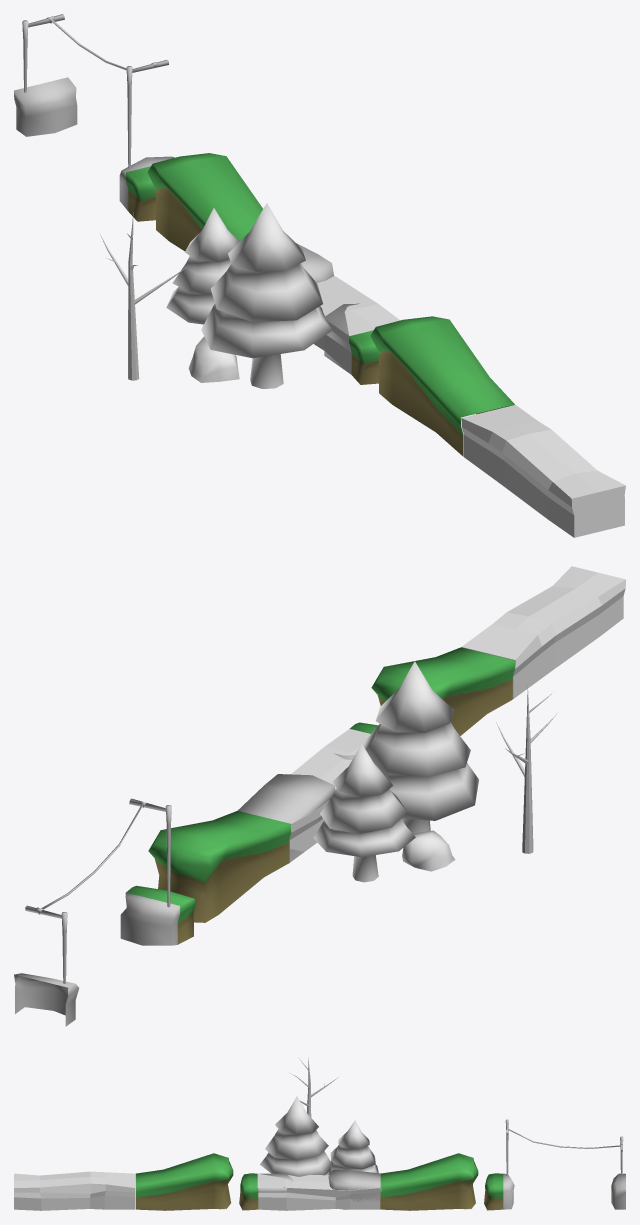
File: ExportedBlenderFBXFile.fbx
3 renders of one model, top to bottom at view 1: azimuth 30°, elevation 25°; view 2: azimuth 150°, elevation 25°; view 3: azimuth 270°, elevation 25°, orthographic. The views are drawn at different scales.
Visible parts, largest first — view 1: Circle, Cube_005, Cube, Cube_003, Cube_004, Circle_001, Cube_002, Cube_006, Circle_002, Cube_001; view 2: Circle, Cube_003, Cube, Circle_001, Cube_004, Cube_005, Cube_001, Cube_002, Cube_006, Circle_002; view 3: Cube_003, Cube_005, Cube, Circle, Cube_002, Circle_001, Cube_001, Cube_004, Circle_002.
Boxes of the visible parts, box(x1,y1,x2,y2) form: Circle: box(201, 203, 332, 388); Cube_005: box(349, 316, 514, 456); Cube: box(461, 405, 625, 537); Cube_003: box(126, 153, 262, 251); Cube_004: box(14, 14, 174, 210); Circle_001: box(166, 208, 239, 324); Cube_002: box(314, 275, 399, 374); Cube_006: box(188, 336, 239, 382); Circle_002: box(99, 212, 187, 380); Cube_001: box(296, 243, 359, 373); Circle: box(363, 661, 478, 833); Cube_003: box(126, 811, 291, 944); Cube: box(461, 566, 625, 698); Circle_001: box(313, 744, 415, 882); Cube_004: box(14, 798, 179, 1026); Cube_005: box(349, 647, 514, 735); Cube_001: box(237, 753, 354, 862); Cube_002: box(289, 729, 370, 851); Cube_006: box(402, 830, 455, 871); Circle_002: box(496, 684, 557, 853); Cube_003: box(380, 1153, 503, 1210); Cube_005: box(135, 1153, 258, 1210); Cube: box(14, 1171, 134, 1210); Circle: box(260, 1096, 331, 1176); Cube_002: box(257, 1173, 380, 1210); Circle_001: box(326, 1120, 378, 1175); Cube_001: box(258, 1169, 381, 1209); Cube_004: box(503, 1119, 625, 1209); Circle_002: box(290, 1057, 338, 1117).
Bounding box in the file's own units: 9.36 × 7.04 × 36.63.
